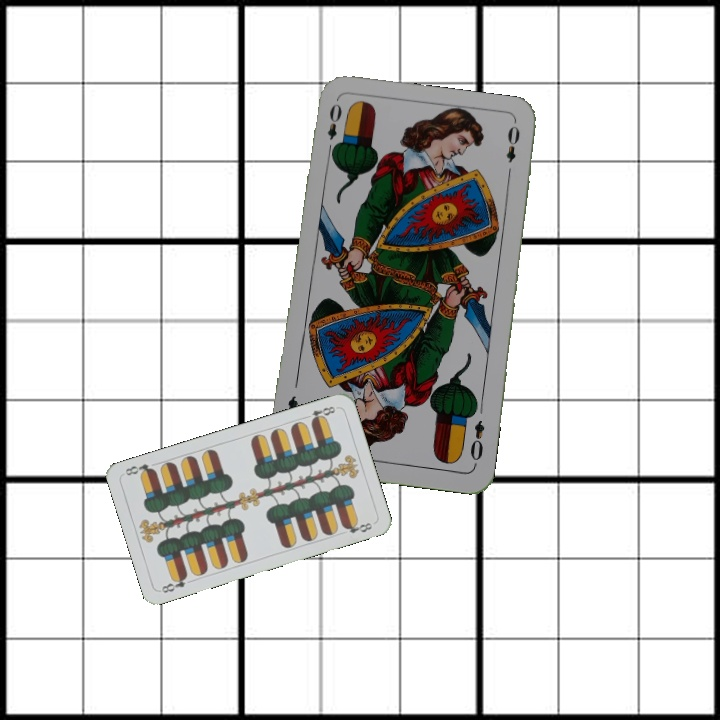E8: (300, 402, 338, 425), (157, 570, 190, 596)
EO: (323, 99, 344, 157), (466, 416, 488, 468)
